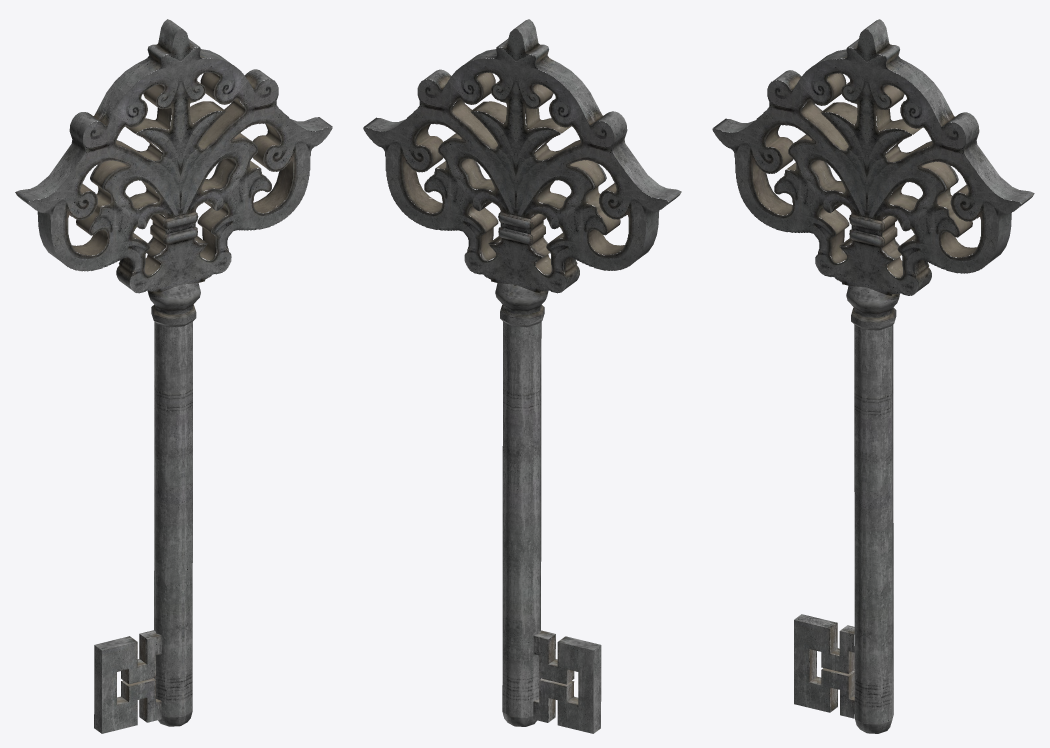
Rendered from gg_01_key.glb.
3 views of the same model, side by side, from view 1: azimuth 30°, elevation 25°; view 2: azimuth 150°, elevation 25°; view 3: azimuth 330°, elevation 25° (orthographic).
Parts seen in each view (by area): view 1: defaultMaterial.001; view 2: defaultMaterial.001; view 3: defaultMaterial.001.
Boxes of the visible parts, left/top/right/bottom form: defaultMaterial.001: left=15, top=19, right=332, bottom=733; defaultMaterial.001: left=363, top=19, right=681, bottom=733; defaultMaterial.001: left=712, top=19, right=1034, bottom=733.
Size of the model in its own units: 1.88 by 4.1 by 0.2873.
Materials: 1 (1 with a texture image).
